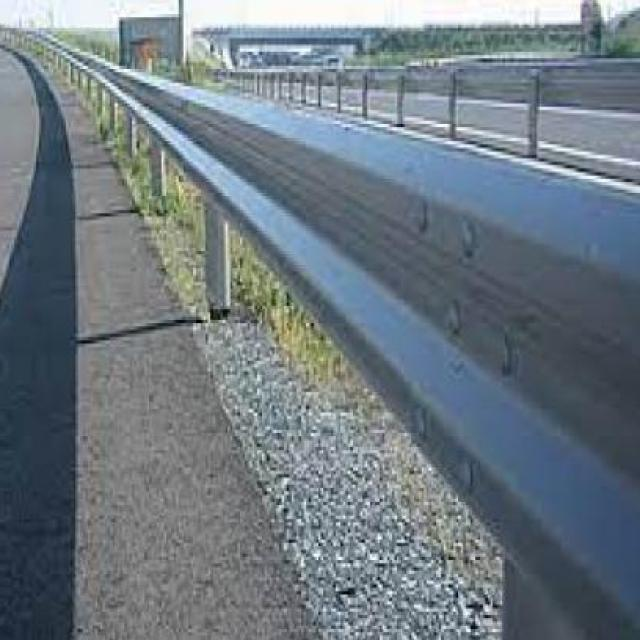Guard rail: (73, 37, 640, 640)
